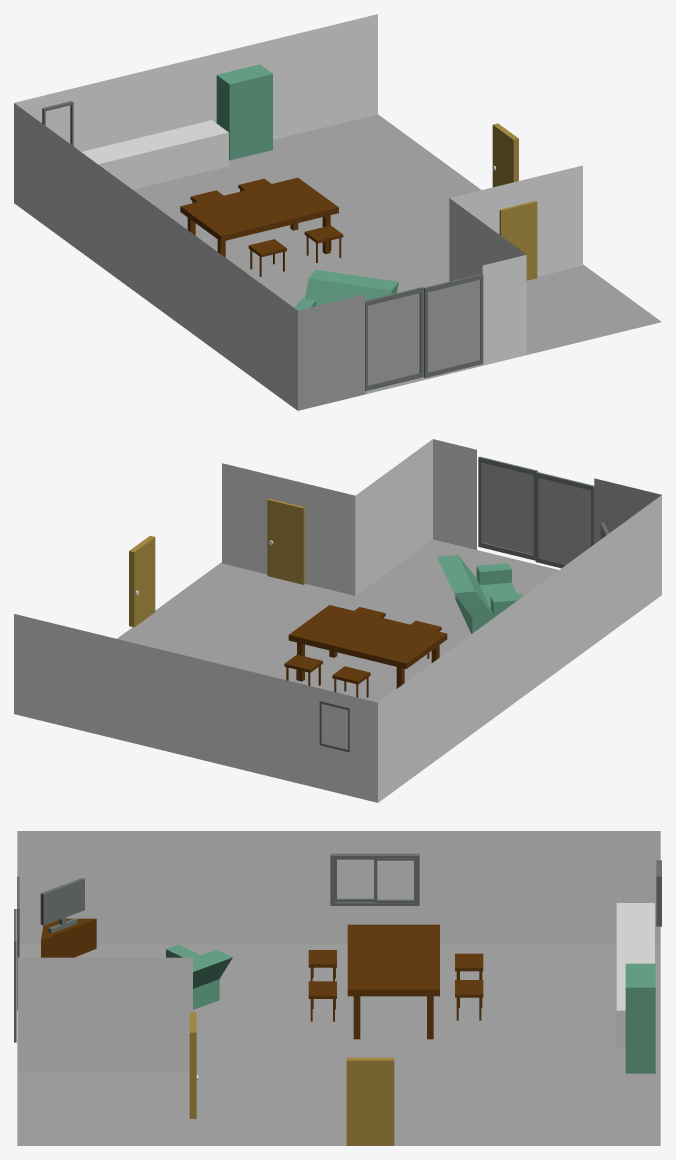
The model's file is home_living01.fbx.
The picture shows the model from 3 angles, top to bottom: view 1: azimuth 30°, elevation 25°; view 2: azimuth 150°, elevation 25°; view 3: azimuth 270°, elevation 25°; orthographic projection. The views are drawn at different scales.
Visible parts, largest first — view 1: pCube1, pCube10, pCube9, pCube15, pCube16, pPlane1, pPlane2, pCube14, pCube2, pCube3, pPipe1, pPipe2; view 2: pCube1, pCube10, pCube15, pPlane1, pPlane2, pCube14, pCube2, pCube3, pPipe1, pPipe2; view 3: pCube1, pCube10, pCube15, pCube3, pCube16, pCube9, pCube14, pCylinder1, pCube11, pPipe5, pCube2, pCube21 (+4 smaller).
Part boxes in pixels (box(x1,y1,x2,y2)): pCube1: box(14, 14, 661, 410); pCube10: box(449, 165, 582, 365); pCube9: box(81, 120, 228, 189); pCube15: box(180, 177, 338, 241); pCube16: box(216, 64, 272, 160); pPlane1: box(428, 280, 479, 372); pPlane2: box(368, 293, 419, 385); pCube14: box(294, 270, 398, 310); pCube2: box(499, 201, 537, 280); pCube3: box(492, 123, 518, 187); pPipe1: box(423, 273, 483, 377); pPipe2: box(365, 287, 423, 391); pCube1: box(14, 478, 661, 802); pCube10: box(222, 439, 476, 595); pCube15: box(288, 605, 447, 668); pPlane1: box(482, 463, 533, 554); pPlane2: box(538, 478, 590, 564); pCube14: box(437, 555, 523, 633); pCube2: box(267, 498, 305, 584); pCube3: box(129, 535, 155, 627); pPipe1: box(478, 456, 537, 560); pPipe2: box(535, 472, 594, 568); pCube1: box(17, 831, 660, 1145); pCube10: box(17, 957, 192, 1071); pCube15: box(347, 924, 439, 996); pCube3: box(346, 1057, 394, 1145); pCube16: box(625, 963, 655, 1073); pCube9: box(616, 903, 654, 1048); pCube14: box(166, 944, 232, 1009); pCylinder1: box(41, 918, 96, 957); pCube11: box(40, 878, 84, 933); pPipe5: box(330, 853, 419, 905); pCube2: box(189, 1012, 196, 1118); pCube21: box(455, 953, 483, 971).
Size of the model in its own units: 14.47 by 3.78 by 19.54.
